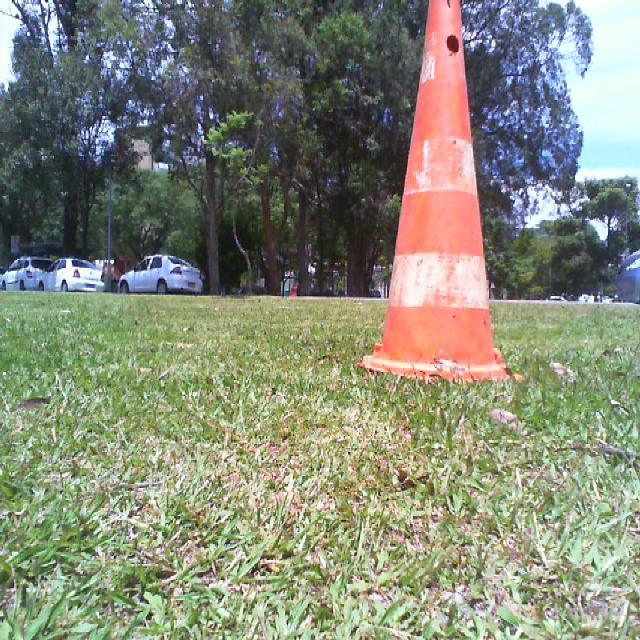Cone: (358, 0, 523, 383)
